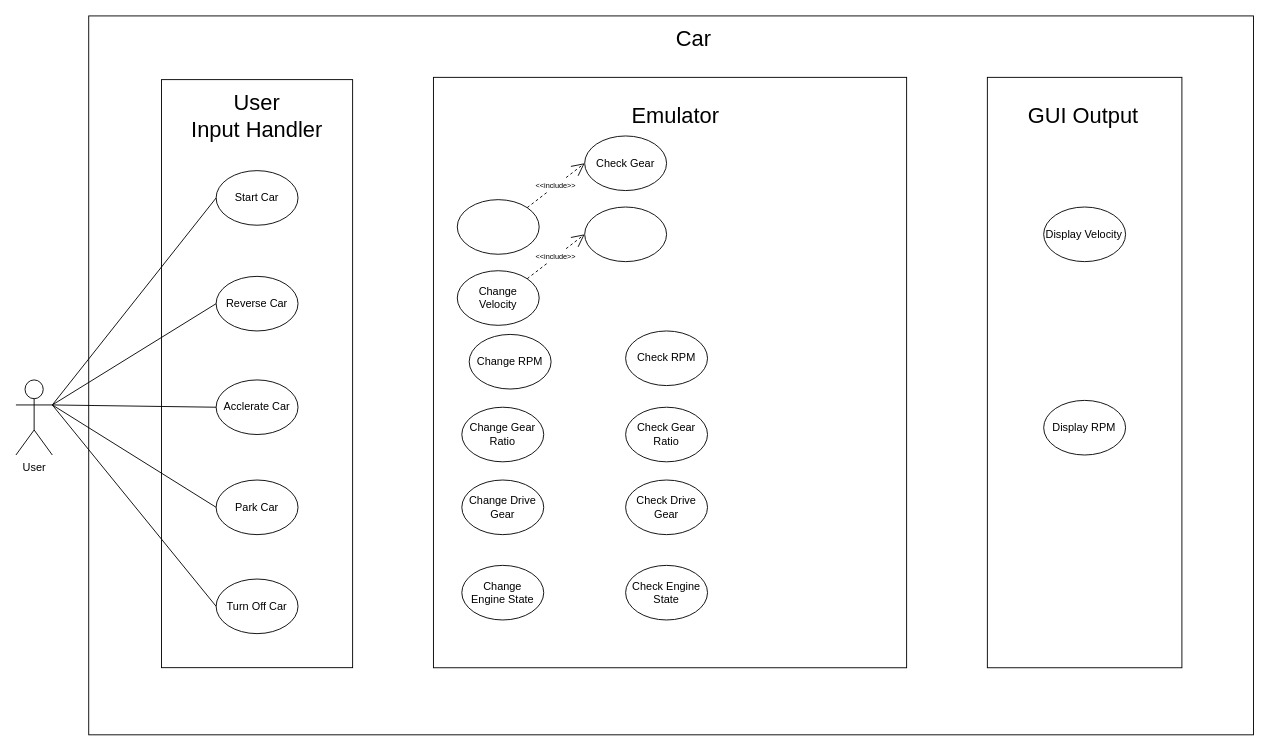
Some shapes in this 1269 by 751 pixel diagram are drawn without their labels. The centre of each missing label's shape, as x and y in pixels:
"Change Gear" belongs at point 497,226.
"Check Velocity" belongs at point 625,234.
